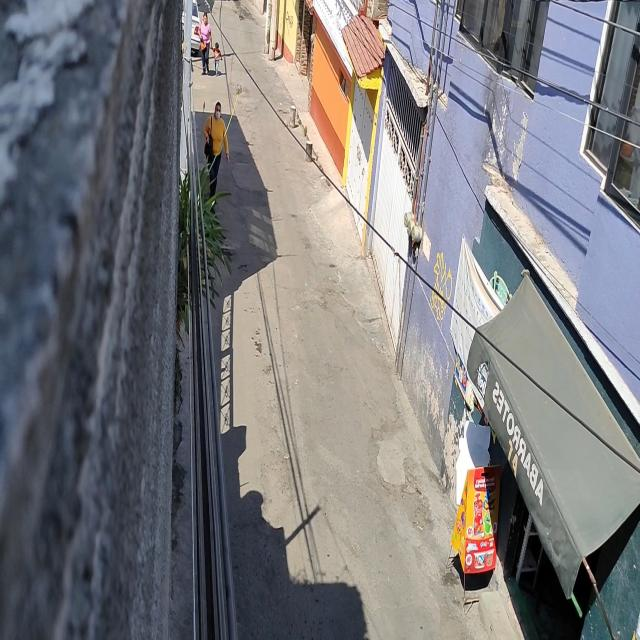adult: (203, 101, 230, 210)
